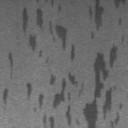red iron: (26, 34, 124, 128), (22, 0, 75, 62), (88, 0, 122, 39), (8, 52, 13, 78), (3, 88, 8, 104), (118, 18, 122, 26)
